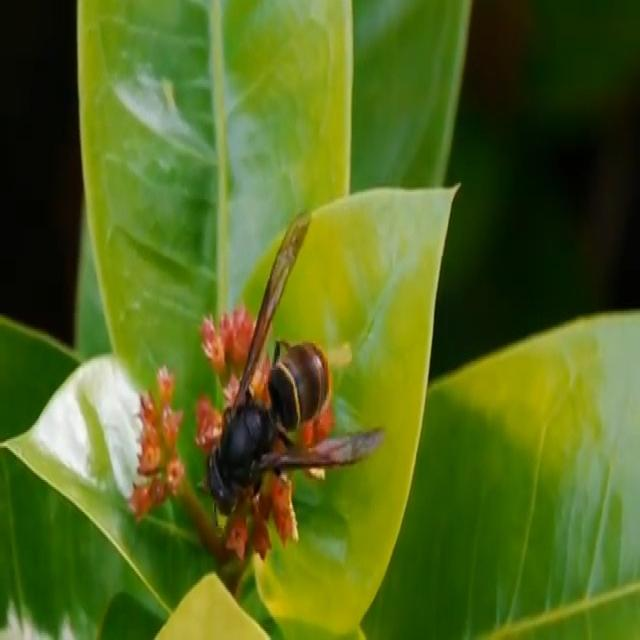Hornets: (204, 208, 386, 522)
